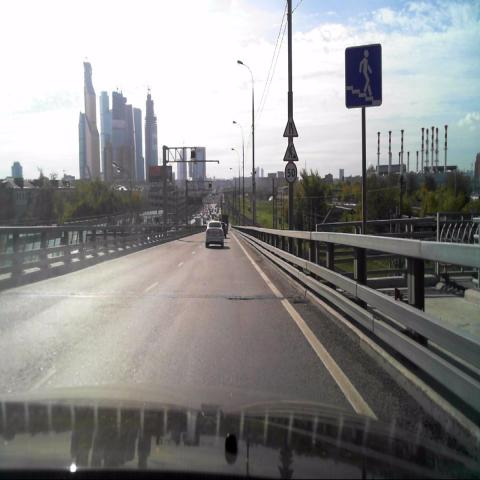1_20_2: (282, 116, 300, 139)
3_24: (284, 163, 298, 184)
